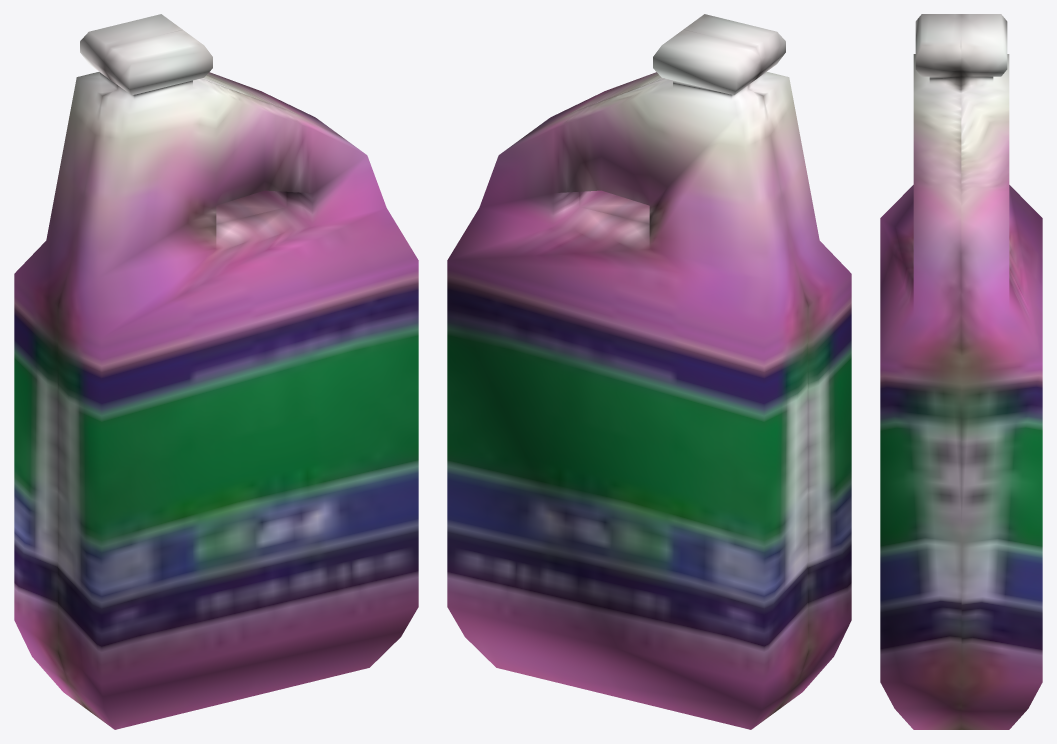
The model's file is pink_disinfectant.FBX.
3 renders of one model, left to right at view 1: azimuth 30°, elevation 25°; view 2: azimuth 150°, elevation 25°; view 3: azimuth 270°, elevation 25°, orthographic. The views are drawn at different scales.
Visible parts, largest first — view 1: pink_disinfectant; view 2: pink_disinfectant; view 3: pink_disinfectant.
Boxes of the visible parts, x1,y1,x2,y2 form: pink_disinfectant: (14,14,418,729); pink_disinfectant: (447,14,851,729); pink_disinfectant: (880,14,1042,729).
Size of the model in its own units: 10.07 by 20 by 4.81.
